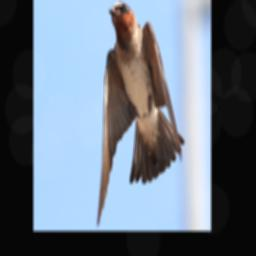Swallow: (96, 1, 184, 228)
